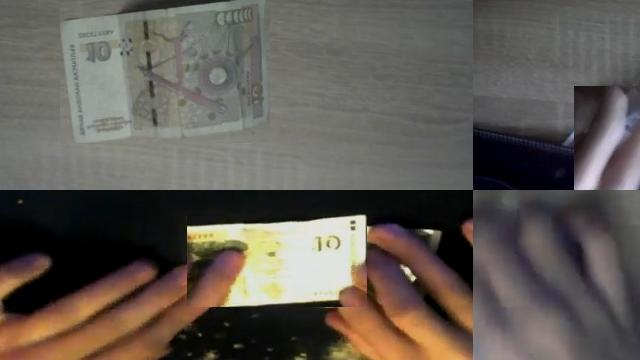10leva: (60, 0, 270, 143), (187, 213, 367, 307)
20leva: (593, 86, 640, 190)
